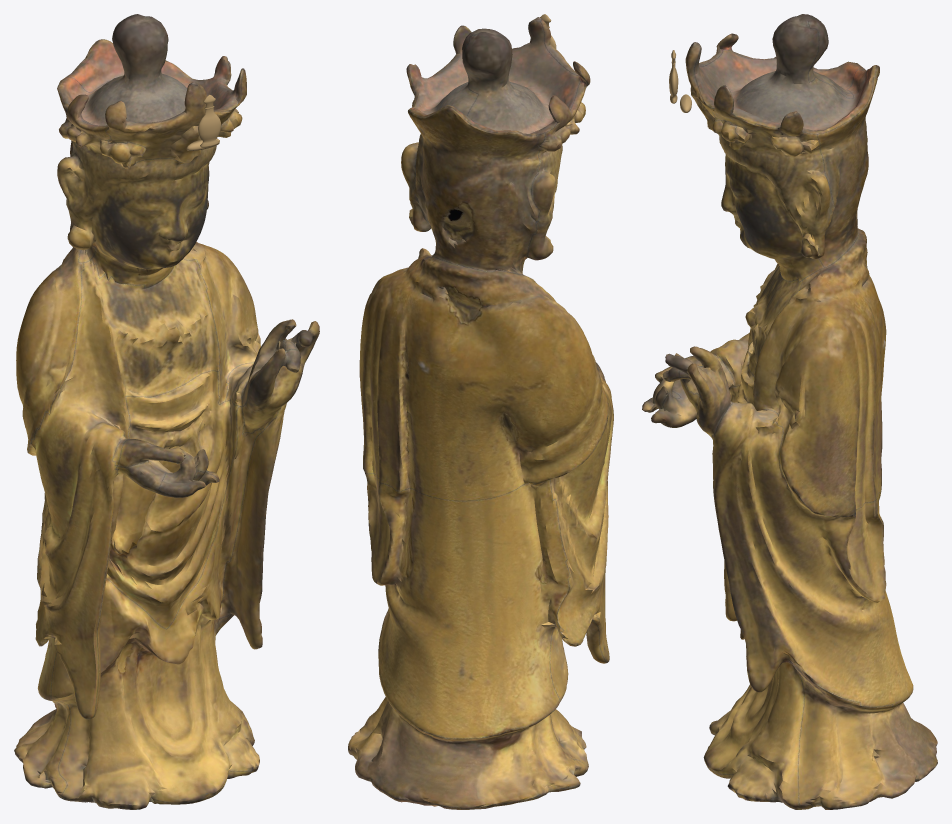
The model's file is mahastamaprapta.glb.
3 views of the same model, side by side, from view 1: azimuth 30°, elevation 25°; view 2: azimuth 150°, elevation 25°; view 3: azimuth 270°, elevation 25° (orthographic). The views are drawn at different scales.
Parts seen in each view (by area): view 1: NMK_Goryeo_companion_interpreted_as_mahastamaprapta, Mahasthamaprapta crown water vessel; view 2: NMK_Goryeo_companion_interpreted_as_mahastamaprapta; view 3: NMK_Goryeo_companion_interpreted_as_mahastamaprapta.
Part boxes in pixels (x1,y1,x2,y2): NMK_Goryeo_companion_interpreted_as_mahastamaprapta: (14,14,319,809); Mahasthamaprapta crown water vessel: (198,95,220,147); NMK_Goryeo_companion_interpreted_as_mahastamaprapta: (348,17,613,809); NMK_Goryeo_companion_interpreted_as_mahastamaprapta: (642,14,937,809).
Size of the model in its own units: 0.334 by 1 by 0.3612.
Materials: 2 (1 with a texture image).
